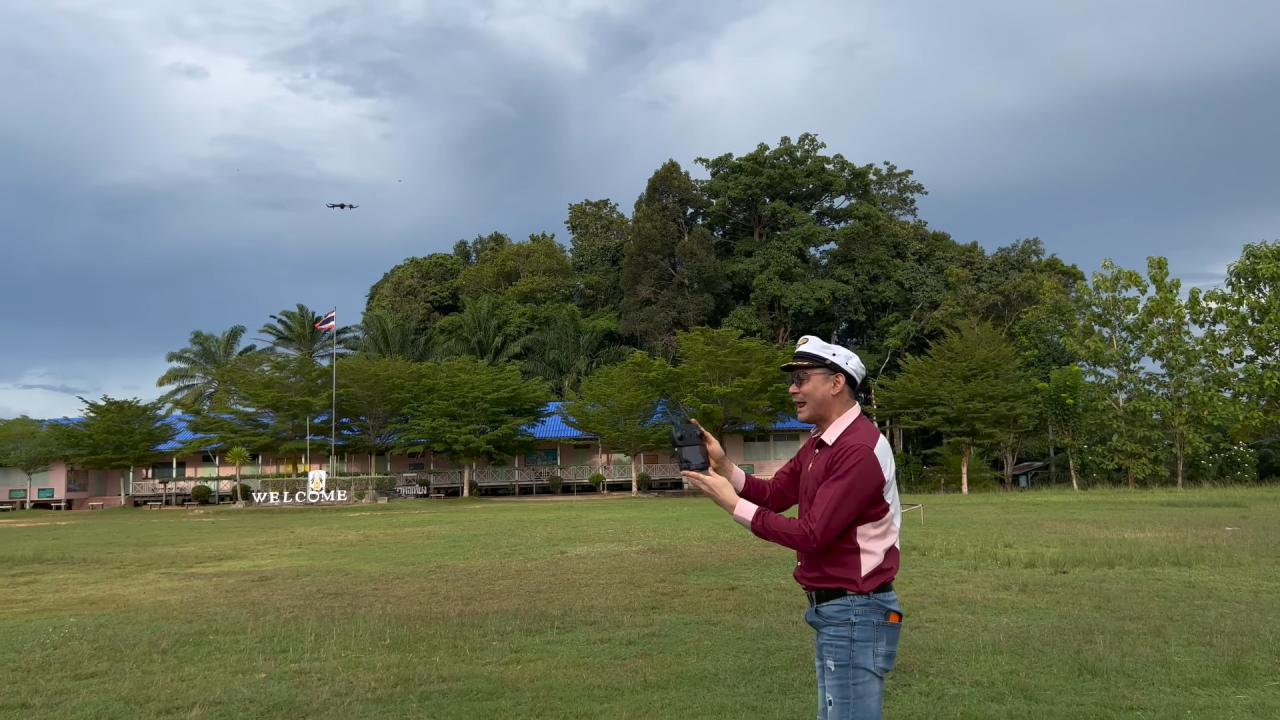Drone: (321, 192, 365, 219)
